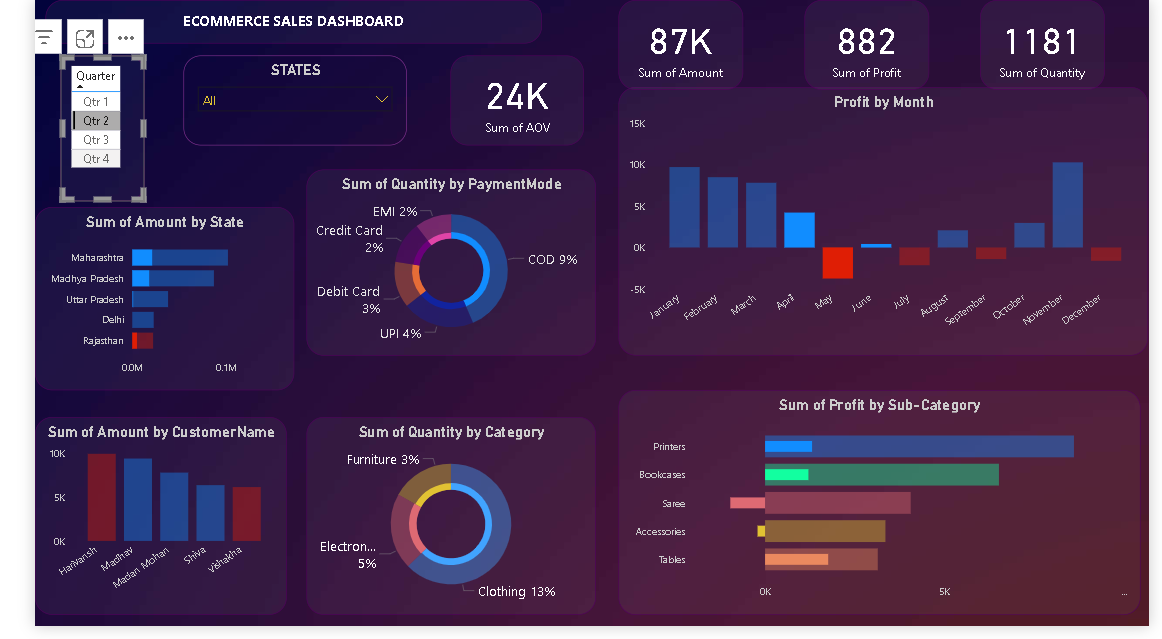

What the dashboard file says about the page in this screenshot:
{"tool":"powerbi","page":{"name":"Page 1","canvas":[1280,720],"ordinal":0},"visuals":[{"type":"textbox","box":[12.1,0,570.7,50],"z":0},{"type":"columnChart","title":" Profit by Month","fields":{"Category":["Orders.Order Date.Variation.Date Hierarchy.Month"],"Y":["Details.Profit"]},"box":[670.7,100,608.6,308.6],"z":1},{"type":"barChart","fields":{"Category":["Details.Sub-Category"],"Y":["Details.Profit"]},"box":[670.7,448.3,600,258.6],"z":2},{"type":"donutChart","fields":{"Y":["Details.Quantity"],"Category":["Details.Category"]},"box":[311.4,480,332.9,227.1],"z":3},{"type":"donutChart","fields":{"Y":["Details.Quantity"],"Category":["Details.PaymentMode"]},"box":[312.1,194.8,332.8,213.8],"z":4},{"type":"card","fields":{"Values":["Details.Amount"]},"box":[670.7,0,143.1,103.4],"z":5},{"type":"card","fields":{"Values":["Details.Profit"]},"box":[884.5,0,143.1,103.4],"z":6},{"type":"card","fields":{"Values":["Details.Quantity"]},"box":[1086.2,0,143.1,103.4],"z":7},{"type":"card","fields":{"Values":["Details.AOV"]},"box":[477.6,63.8,153.4,103.4],"z":8},{"type":"clusteredBarChart","fields":{"Category":["Orders.State"],"Y":["Details.Amount"]},"box":[0,237.9,298.3,210.3],"z":9},{"type":"columnChart","fields":{"Category":["Orders.CustomerName"],"Y":["Details.Amount"]},"box":[0,479.3,289.7,227.6],"z":10},{"type":"tableEx","fields":{"Values":["Orders.Order Date.Variation.Date Hierarchy.Quarter"]},"box":[29.3,63.8,96.6,167.2],"z":12},{"type":"slicer","title":"STATES","fields":{"Values":["Orders.State"]},"box":[170.7,63.8,256.9,103.4],"z":13}]}

Visuals, with their boxes in screenshot pixels (x1, y1, x2, y2):
textbox: locate(41, 6, 540, 50)
" Profit by Month" columnChart: locate(617, 94, 1149, 363)
barChart - Details.Sub-Category x Details.Profit: locate(617, 398, 1142, 624)
donutChart - Details.Quantity x Details.Category: locate(303, 426, 594, 624)
donutChart - Details.Quantity x Details.PaymentMode: locate(303, 176, 594, 363)
card - Details.Amount: locate(617, 6, 742, 96)
card - Details.Profit: locate(804, 6, 929, 96)
card - Details.Quantity: locate(980, 6, 1105, 96)
card - Details.AOV: locate(448, 62, 582, 152)
clusteredBarChart - Orders.State x Details.Amount: locate(30, 214, 291, 398)
columnChart - Orders.CustomerName x Details.Amount: locate(30, 425, 284, 624)
tableEx - Orders.Order Date.Variation.Date Hierarchy.Quarter: locate(56, 62, 140, 208)
"STATES" slicer: locate(180, 62, 404, 152)
